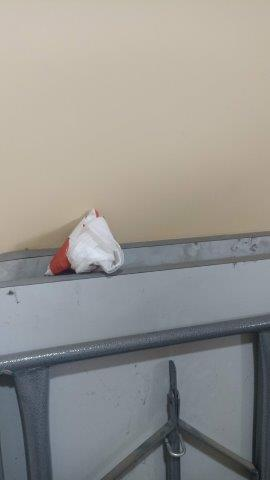plastik: (39, 208, 127, 278)
